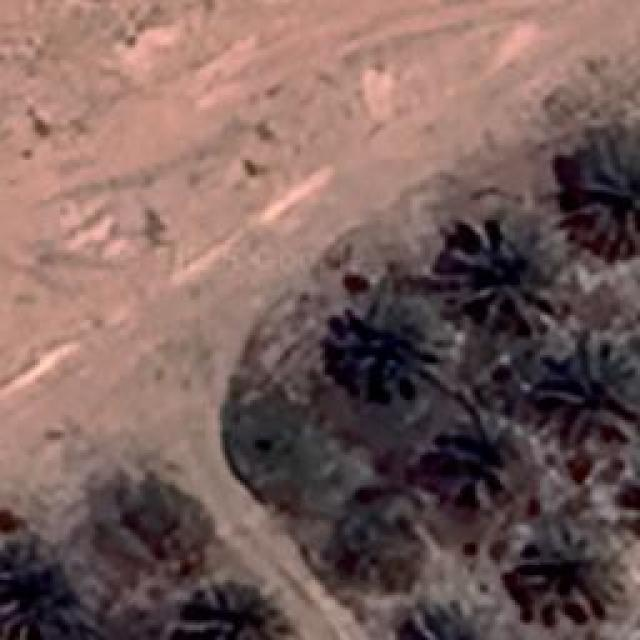PalmTree: (89, 37, 631, 494), (18, 103, 444, 622), (442, 210, 570, 330), (348, 294, 458, 398), (540, 332, 635, 440), (522, 522, 628, 602), (574, 140, 638, 258), (172, 574, 290, 638), (421, 430, 504, 500), (0, 547, 52, 627)
